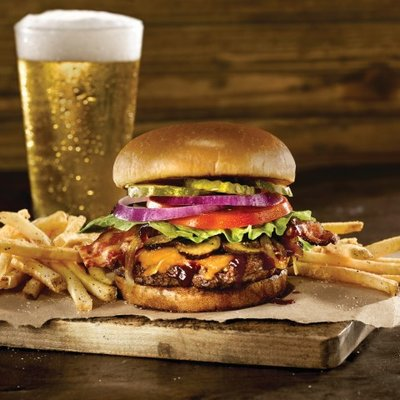pizza: (13, 9, 145, 221)
soup: (75, 121, 345, 313)
